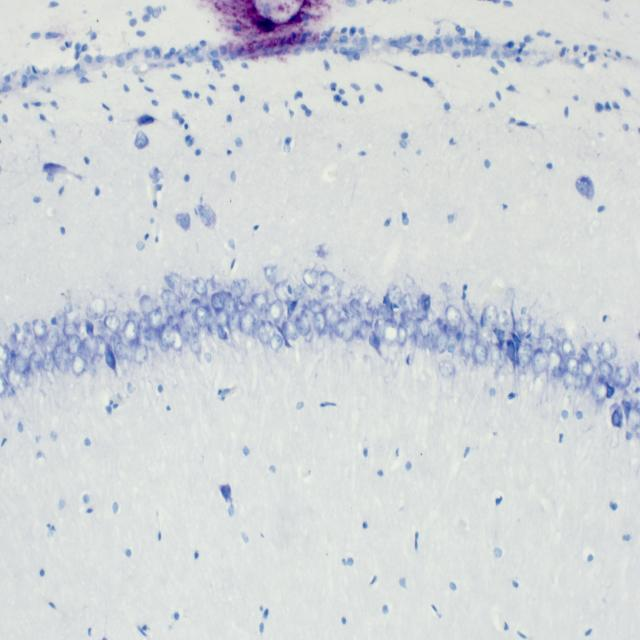neuron: (180, 307, 200, 335), (210, 289, 232, 314), (85, 296, 106, 321), (592, 373, 608, 405), (336, 316, 354, 342), (475, 323, 493, 349), (383, 317, 398, 347), (546, 349, 562, 377), (294, 310, 311, 336), (324, 303, 341, 329), (4, 365, 23, 388), (586, 341, 602, 368), (239, 312, 256, 336), (533, 348, 548, 375), (167, 326, 183, 351), (376, 304, 396, 324), (445, 304, 461, 329), (579, 354, 595, 379), (269, 298, 284, 324), (517, 314, 532, 340), (274, 280, 290, 304), (490, 345, 506, 369), (251, 292, 269, 313), (282, 319, 300, 340), (600, 341, 618, 362), (77, 337, 92, 362), (123, 320, 138, 345), (137, 318, 152, 343), (614, 366, 631, 388), (412, 317, 424, 348), (428, 319, 440, 350), (518, 342, 532, 368), (574, 372, 588, 398), (28, 352, 46, 372), (160, 288, 178, 308), (178, 278, 195, 299), (56, 350, 72, 372), (66, 332, 82, 354), (386, 283, 402, 305), (472, 342, 488, 364), (148, 308, 163, 331), (195, 304, 210, 327), (165, 271, 182, 291), (302, 269, 319, 289), (627, 406, 640, 432), (94, 334, 108, 358), (313, 311, 327, 335), (139, 296, 157, 314), (437, 327, 449, 354), (438, 358, 455, 377), (192, 276, 208, 296), (539, 333, 555, 353), (159, 322, 170, 351), (134, 343, 149, 364), (13, 352, 27, 374), (18, 337, 32, 359), (224, 298, 238, 320), (462, 336, 476, 358), (72, 354, 87, 374), (114, 340, 129, 360), (215, 307, 230, 327), (231, 278, 246, 298), (400, 293, 415, 313), (397, 322, 408, 349), (227, 310, 241, 331), (264, 264, 278, 285), (165, 298, 182, 315), (104, 314, 120, 332), (190, 332, 202, 356), (320, 271, 336, 289), (351, 311, 362, 337), (598, 361, 613, 380), (46, 327, 60, 347), (562, 368, 576, 388), (566, 355, 580, 375), (63, 322, 81, 337), (166, 314, 181, 332), (483, 304, 498, 322), (32, 319, 46, 338), (257, 323, 269, 345), (359, 320, 370, 344), (42, 352, 55, 372), (562, 338, 575, 358), (463, 319, 478, 336), (375, 317, 385, 342), (419, 316, 430, 338), (52, 342, 64, 362), (209, 312, 219, 336), (369, 331, 381, 351), (270, 333, 283, 351), (293, 284, 308, 299), (126, 310, 142, 324), (555, 327, 568, 344), (364, 306, 374, 328), (0, 344, 10, 365), (309, 299, 323, 314), (0, 373, 8, 396), (54, 309, 66, 324), (22, 320, 33, 336), (89, 358, 98, 377), (350, 298, 360, 315), (64, 301, 73, 313), (321, 284, 328, 298)
